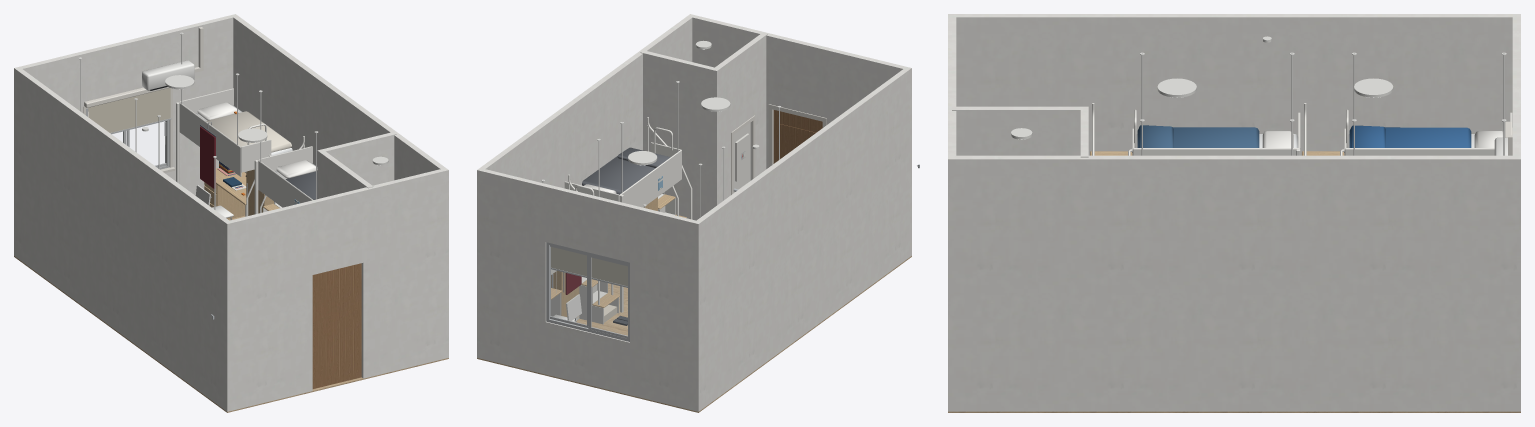
The model's file is dorm_room4.glb.
3 views of the same model, side by side, from view 1: azimuth 30°, elevation 25°; view 2: azimuth 150°, elevation 25°; view 3: azimuth 270°, elevation 25° (orthographic). The views are drawn at different scales.
Visible parts, largest first — view 1: WALL_left_wall, WALL_front_wall, WALL_right_wall, WALL_back_wall, WALL_front_door, LOFT_R1_frame, WALL_bath_n_wall, WALL_back_blind, LOFT_R2_frame, dorm_wood, WALL_bath_w_wall, BEDDING_R1_duvet (+11 smaller); view 2: WALL_left_wall, WALL_back_wall, WALL_right_wall, WALL_front_wall, WALL_bath_n_wall, WALL_bath_w_wall, WALL_back_glass, LOFT_R2_frame, WALL_back_alu, BEDDING_R2_duvet, dorm_frame_white, WALL_back_blind (+7 smaller); view 3: WALL_right_wall, WALL_left_wall, WALL_bath_w_wall, BEDDING_L2_duvet, BEDDING_L1_duvet, LOFT_L2_frame, LOFT_L1_frame, dorm_fixtures, WALL_back_wall, WALL_front_wall, dorm_floor, BEDDING_L2_pillow.
Boxes of the visible parts, box(x1,y1,x2,y2) form: WALL_left_wall: box(14, 67, 232, 411); WALL_front_wall: box(230, 169, 443, 410); WALL_right_wall: box(231, 14, 448, 358); WALL_back_wall: box(19, 15, 233, 195); WALL_front_door: box(312, 263, 361, 388); LOFT_R1_frame: box(178, 88, 304, 176); WALL_bath_n_wall: box(317, 132, 396, 198); WALL_back_blind: box(88, 88, 170, 132); LOFT_R2_frame: box(257, 146, 312, 207); dorm_wood: box(204, 168, 279, 219); WALL_bath_w_wall: box(320, 151, 373, 198); BEDDING_R1_duvet: box(206, 111, 291, 152); WALL_left_wall: box(693, 67, 911, 411); WALL_back_wall: box(482, 169, 695, 410); WALL_right_wall: box(477, 14, 694, 358); WALL_front_wall: box(692, 15, 906, 168); WALL_bath_n_wall: box(640, 50, 719, 220); WALL_bath_w_wall: box(715, 32, 767, 202); WALL_back_glass: box(550, 247, 627, 334); LOFT_R2_frame: box(564, 117, 681, 207); WALL_back_alu: box(546, 242, 629, 341); BEDDING_R2_duvet: box(582, 147, 670, 194); dorm_frame_white: box(551, 150, 692, 324); WALL_back_blind: box(551, 247, 627, 286); WALL_right_wall: box(948, 155, 1520, 411); WALL_left_wall: box(948, 14, 1520, 155); WALL_bath_w_wall: box(952, 106, 1080, 155); BEDDING_L2_duvet: box(1137, 125, 1259, 147); BEDDING_L1_duvet: box(1349, 125, 1471, 147); LOFT_L2_frame: box(1092, 103, 1300, 155); LOFT_L1_frame: box(1304, 103, 1512, 155); dorm_fixtures: box(1011, 36, 1393, 139); WALL_back_wall: box(1512, 17, 1520, 155); WALL_front_wall: box(948, 17, 956, 155); dorm_floor: box(948, 411, 1520, 412); BEDDING_L2_pillow: box(1262, 131, 1293, 147).
Bounding box in the file's own units: 4.41 × 3.43 × 7.
42 materials, 9 textured.
